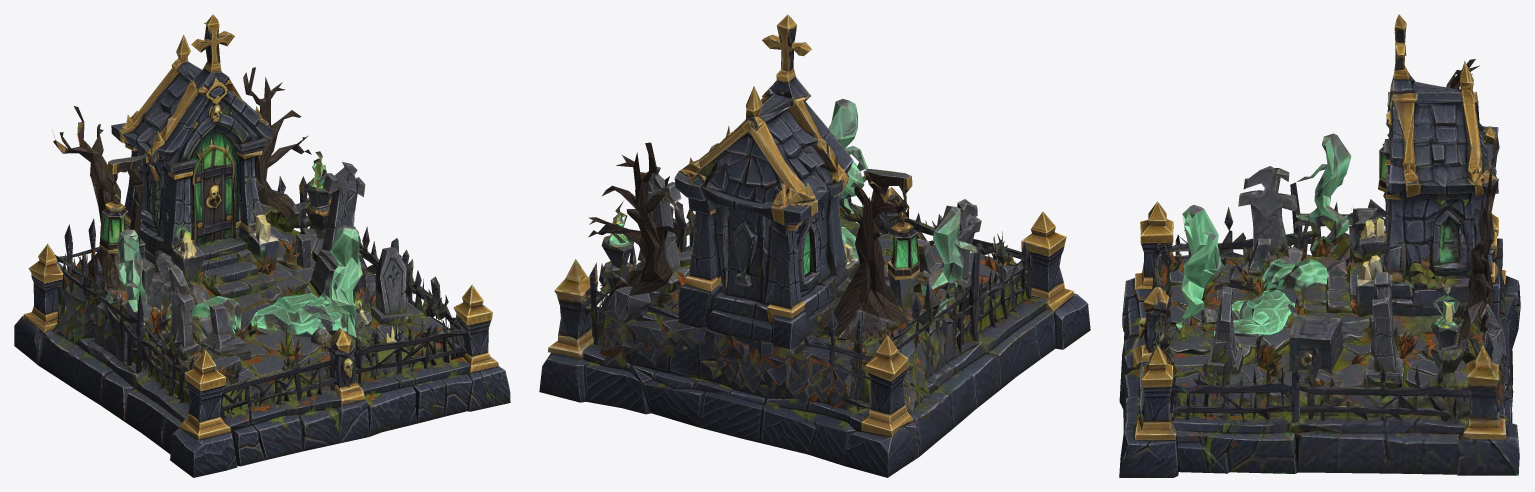
The model's file is graveyard.glb.
The picture shows the model from 3 angles, left to right: view 1: azimuth 30°, elevation 25°; view 2: azimuth 150°, elevation 25°; view 3: azimuth 270°, elevation 25°; orthographic projection. The views are drawn at different scales.
Parts seen in each view (by area): view 1: Mesh_0; view 2: Mesh_0; view 3: Mesh_0.
Part boxes in pixels (bbox=[...]): Mesh_0: bbox=[14, 14, 510, 477]; Mesh_0: bbox=[539, 14, 1090, 477]; Mesh_0: bbox=[1119, 14, 1520, 477].
Bounding box in the file's own units: 1.85 × 1.89 × 1.84.
1 material, 1 textured.
